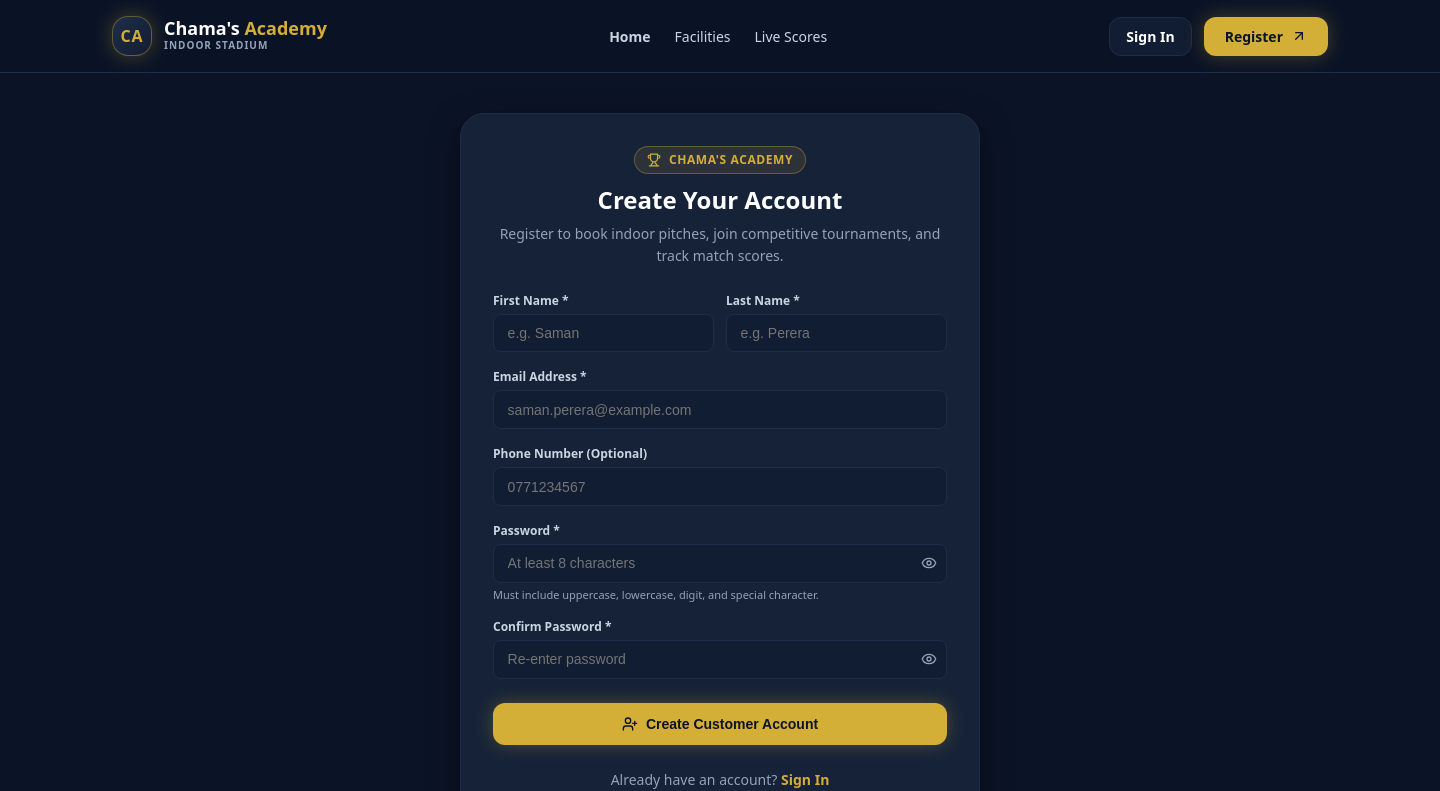
Test: Registration Page Component and Flow › handles duplicate email 409 Conflict response gracefully with clear banner
Type "Existing" into the field labelled "First Name *".
click(604, 333); type("Existing")  # box [493,314,714,352]
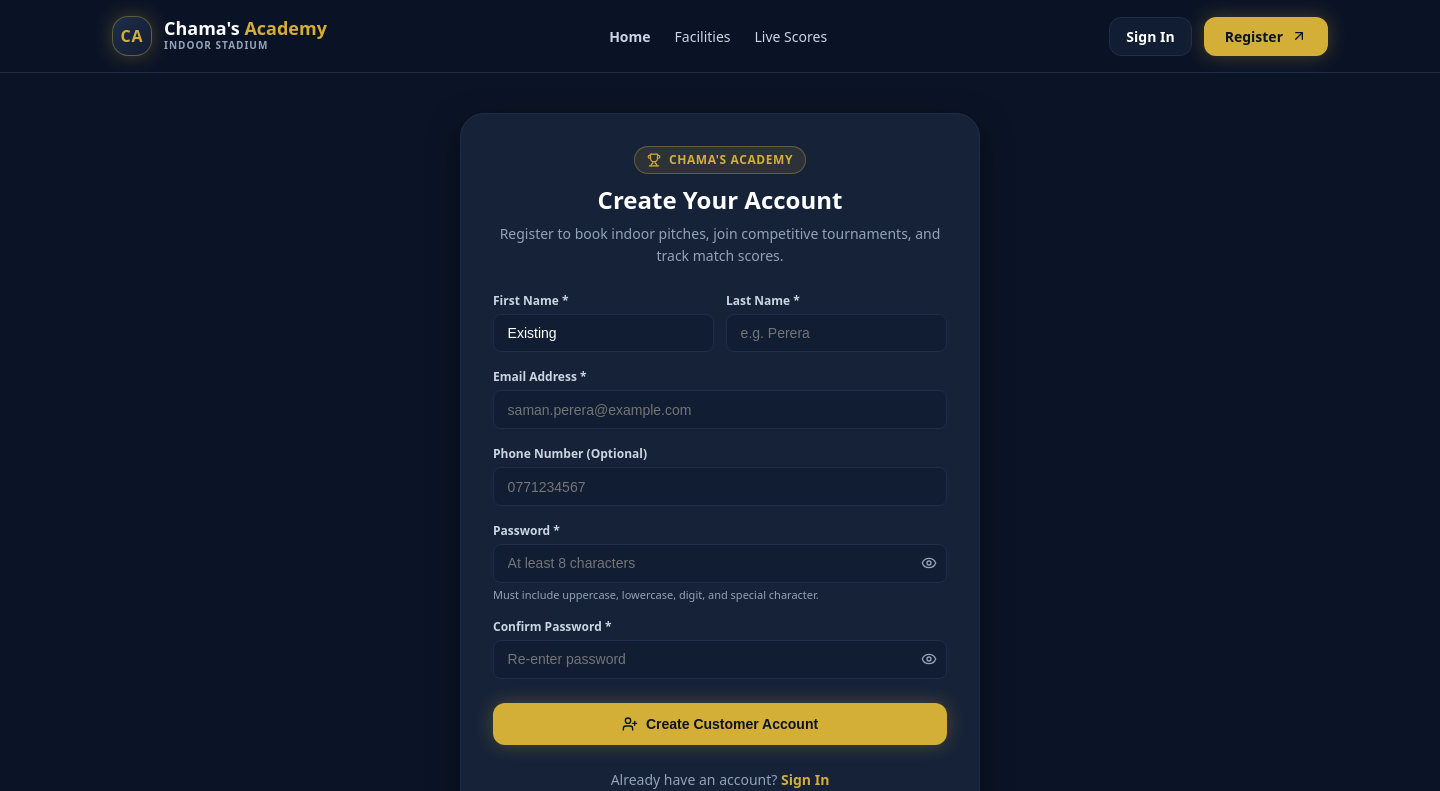
Type "User" into the field labelled "Last Name *".
click(836, 333); type("User")  # box [726,314,947,352]
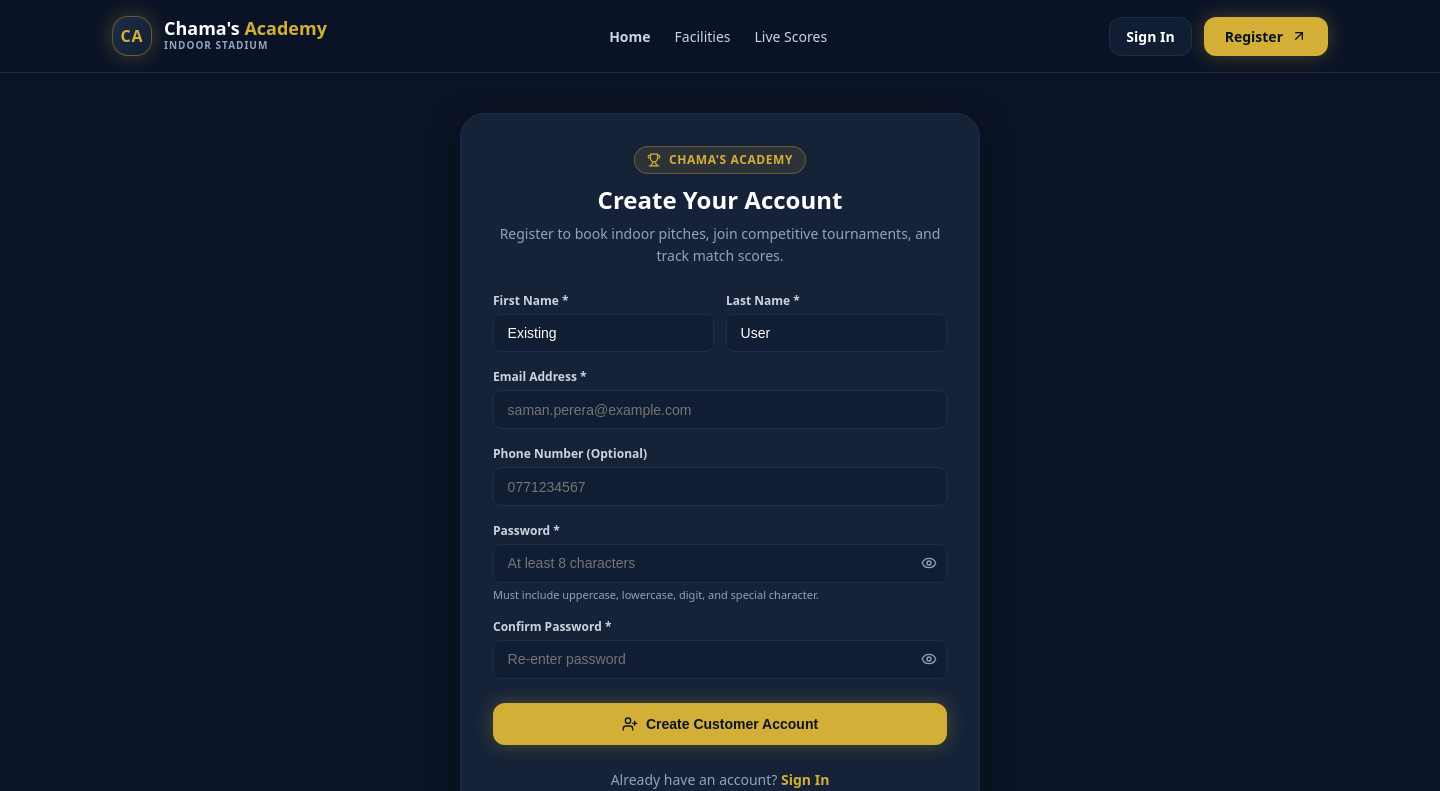
Type "existing@example.com" into the field labelled "Email Address *".
click(720, 410); type("existing@example.com")  # box [493,390,947,429]
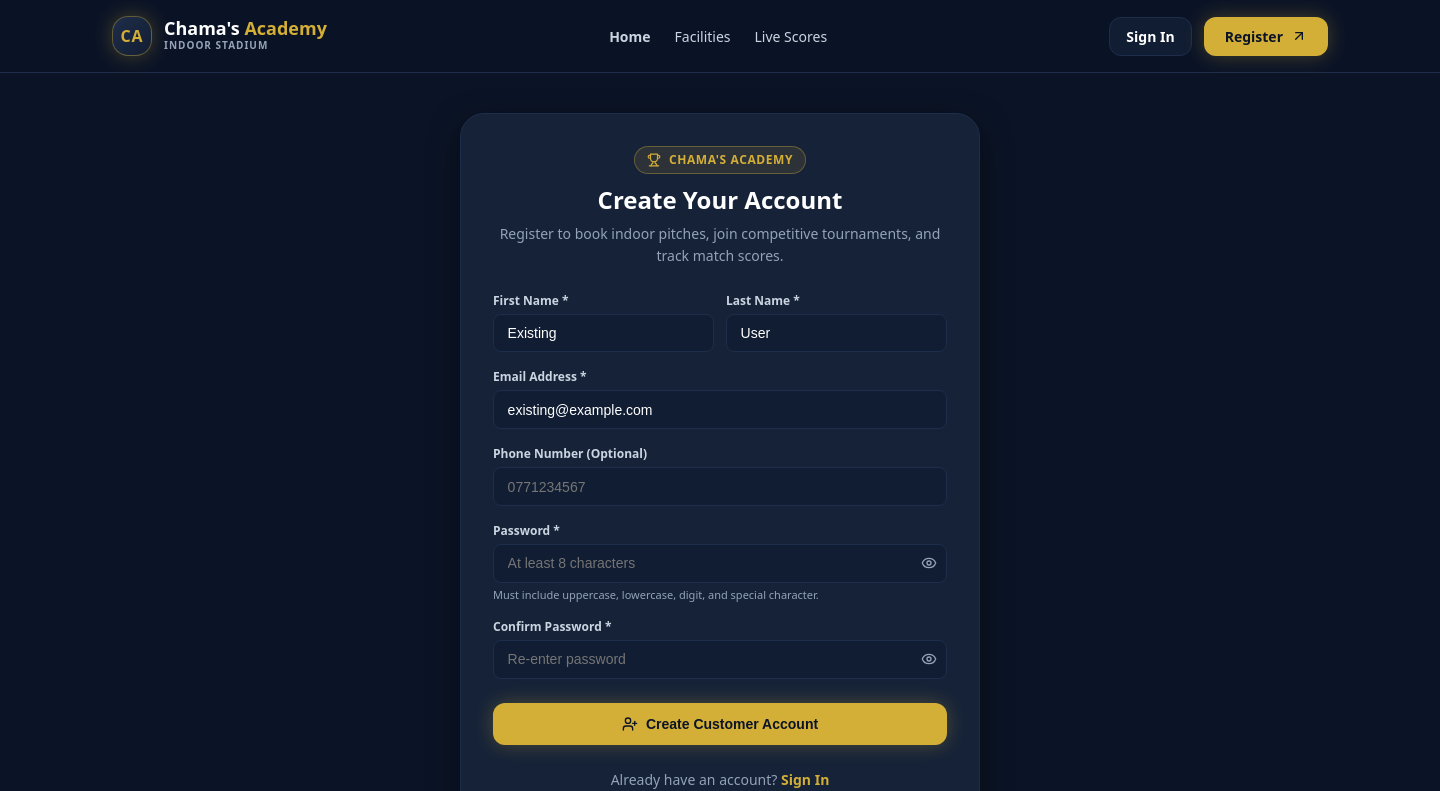
Type "StrongPass123!" into the password field labelled "Password *".
click(720, 563); type("StrongPass123!")  # box [493,544,947,583]
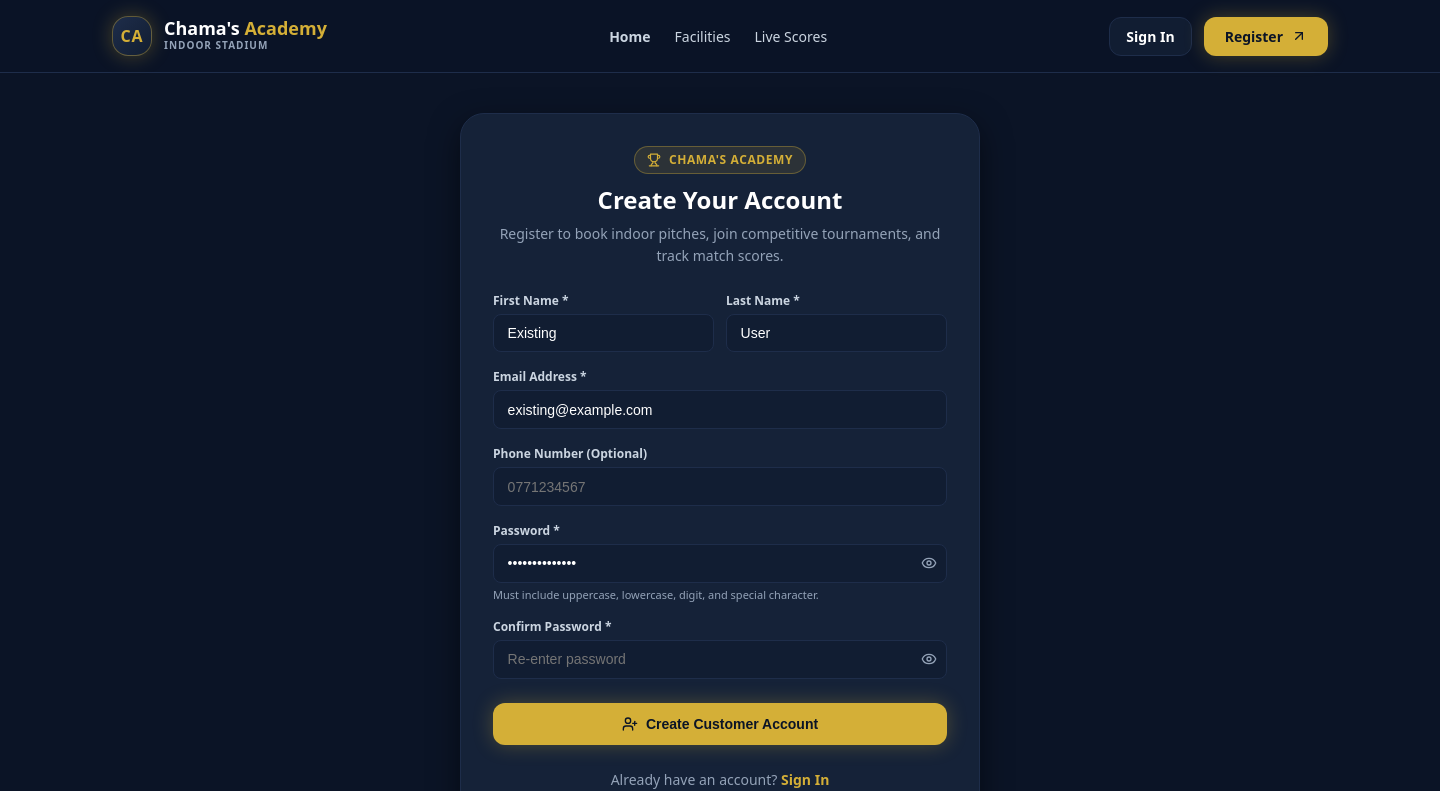
Type "StrongPass123!" into the password field labelled "Confirm Password *".
click(720, 660); type("StrongPass123!")  # box [493,640,947,679]
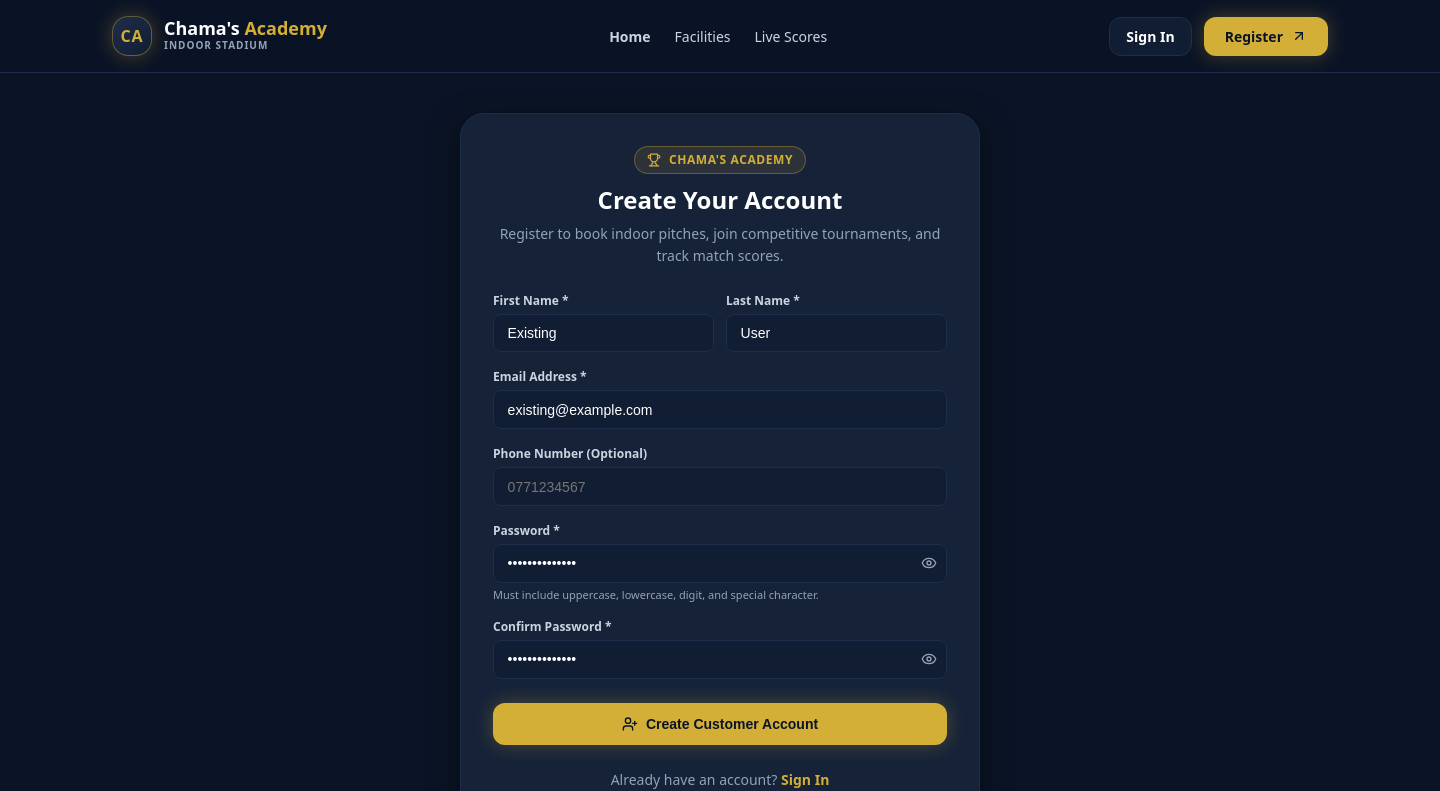
Click the button "Create Customer Account".
click(720, 724)  # box [493,703,947,745]
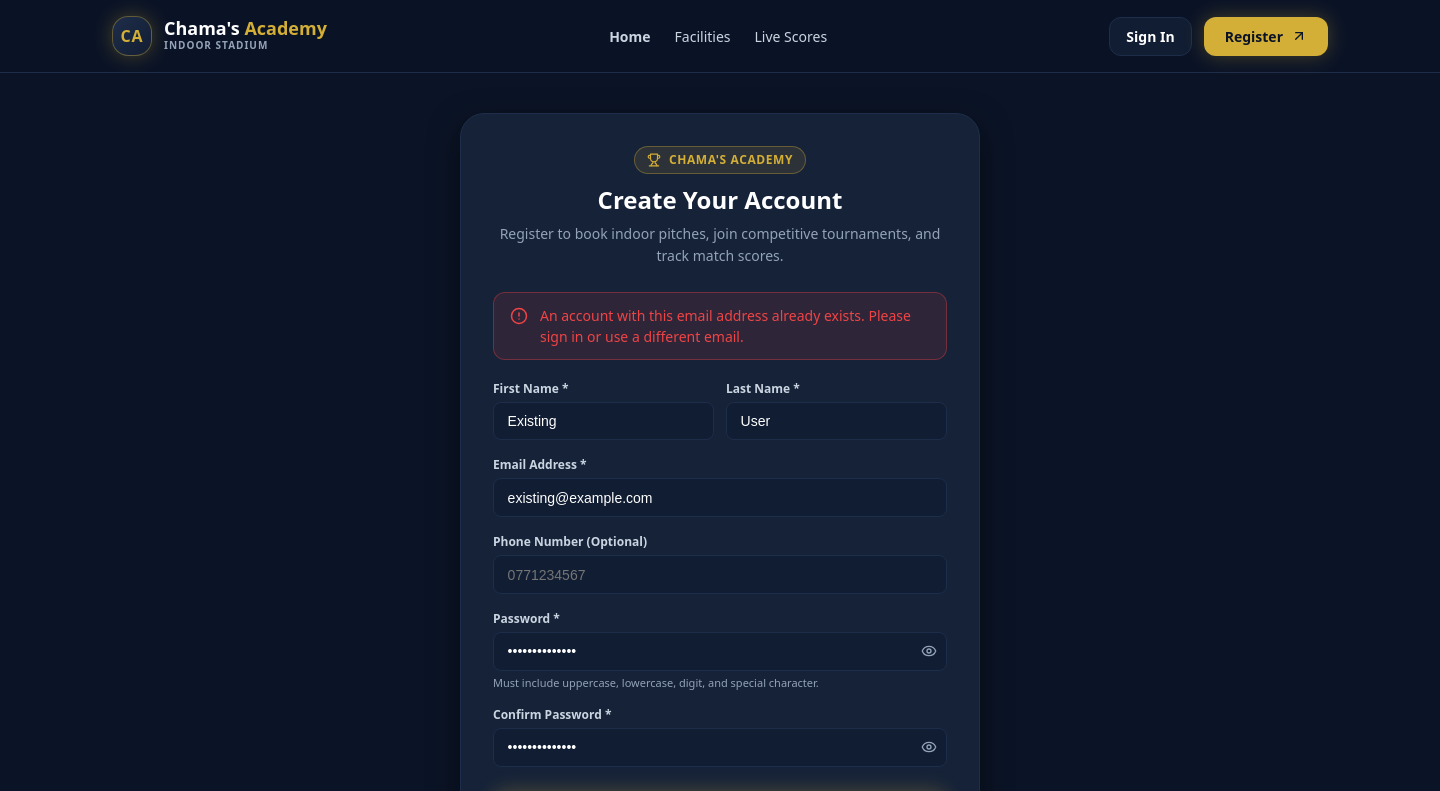
Now the message with test id "register-error-banner" is shown, box [493,292,947,360]
Now the text "An account with this email address already exists. Please sign in or use a different email." is shown, box [540,306,911,346]
